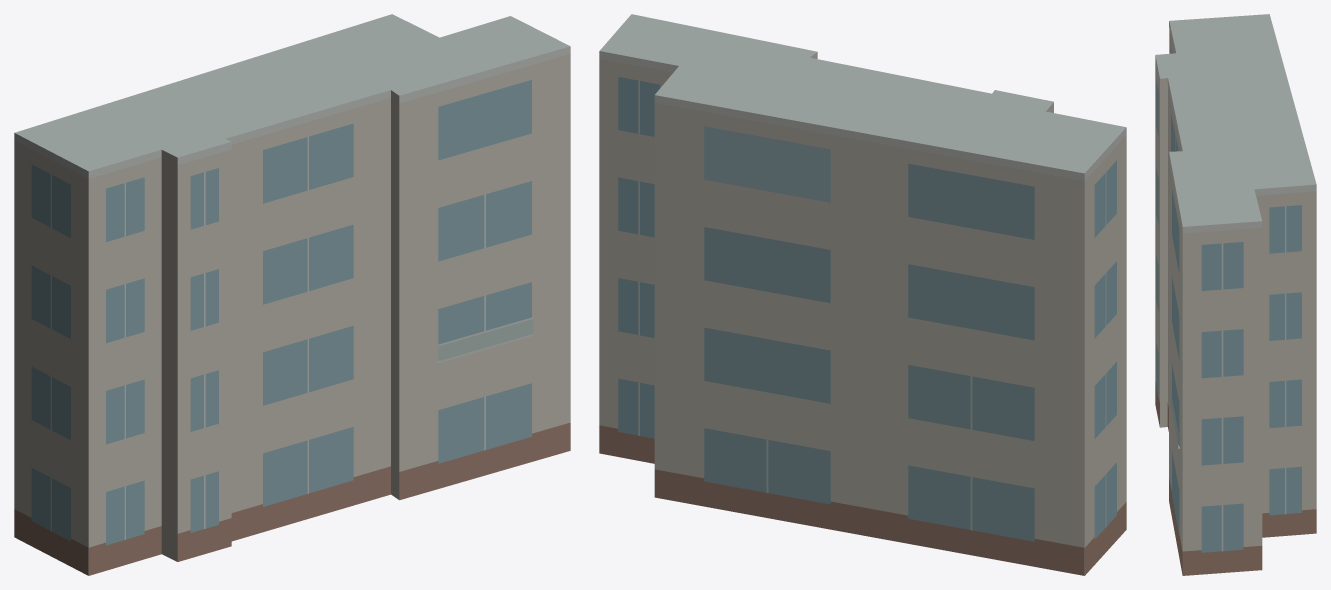
File: survey-upis-32511480.glb
3 renders of one model, left to right at view 1: azimuth 30°, elevation 25°; view 2: azimuth 150°, elevation 25°; view 3: azimuth 270°, elevation 25°, orthographic. The views are drawn at different scales.
Visible parts, largest first — view 1: survey-upis-32511480.tmp; view 2: survey-upis-32511480.tmp; view 3: survey-upis-32511480.tmp.
Part boxes in pixels (box(x1,y1,x2,y2)): survey-upis-32511480.tmp: box(14, 14, 570, 575); survey-upis-32511480.tmp: box(599, 14, 1126, 575); survey-upis-32511480.tmp: box(1155, 14, 1316, 575).
Bounding box in the file's own units: 16.89 × 12.9 × 5.42.
